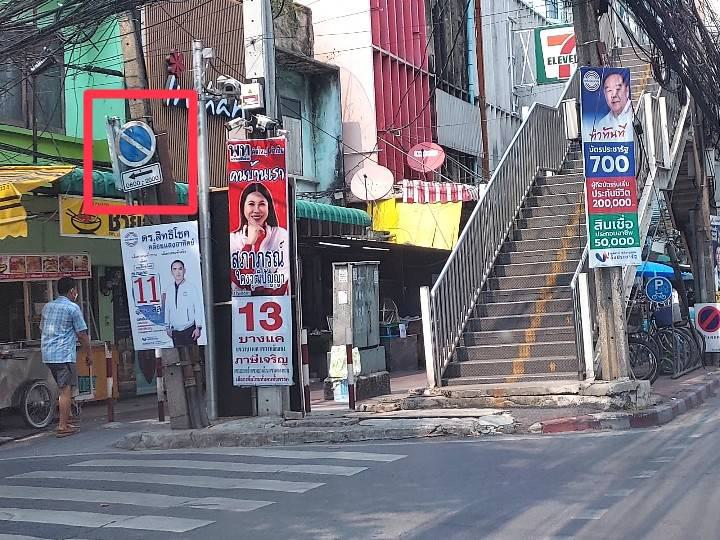Banner: (225, 134, 291, 386), (577, 66, 644, 276), (119, 221, 205, 361)
